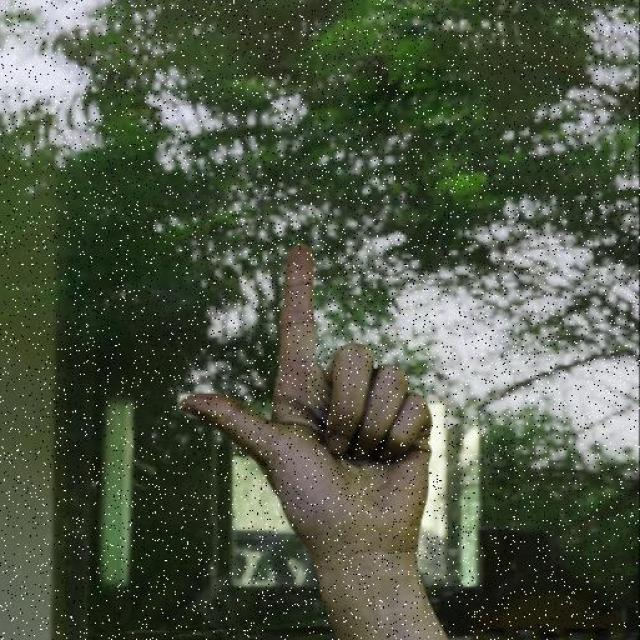L: (172, 238, 434, 552)
